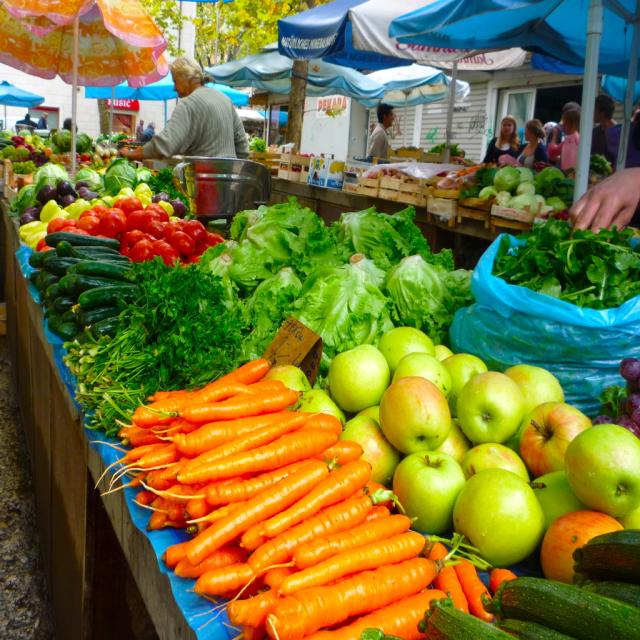Healty Apple: (264, 327, 640, 584), (394, 464, 478, 538)
